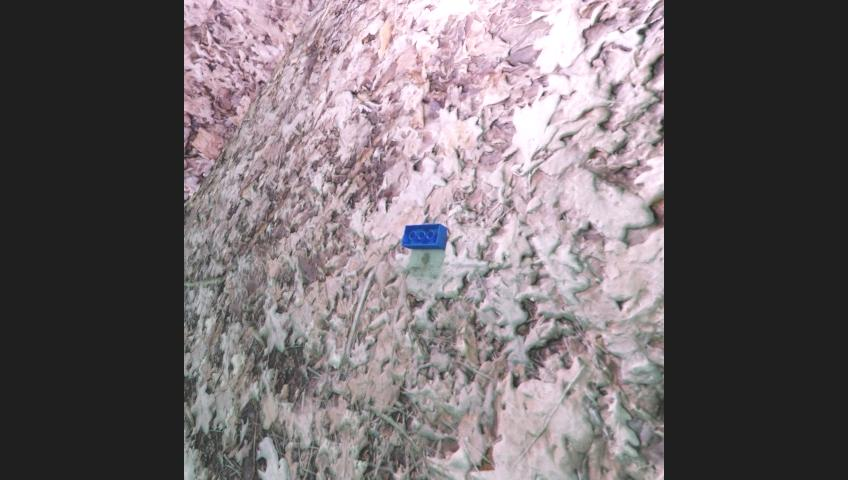4x2_blue: (400, 224, 447, 248)
